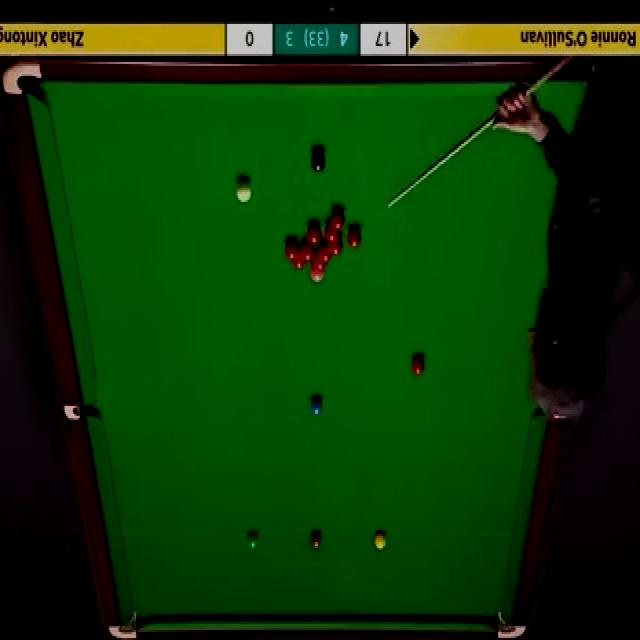pocket: (2, 57, 42, 96), (496, 610, 528, 640), (107, 608, 138, 638), (64, 399, 98, 418)
